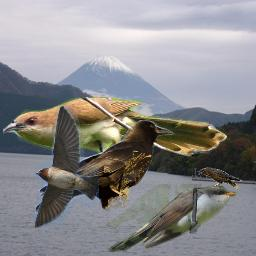Crow: (35, 117, 175, 224), (197, 167, 242, 189)
Cuckoo: (3, 97, 228, 176), (106, 184, 236, 252)
Swallow: (34, 105, 99, 228)
